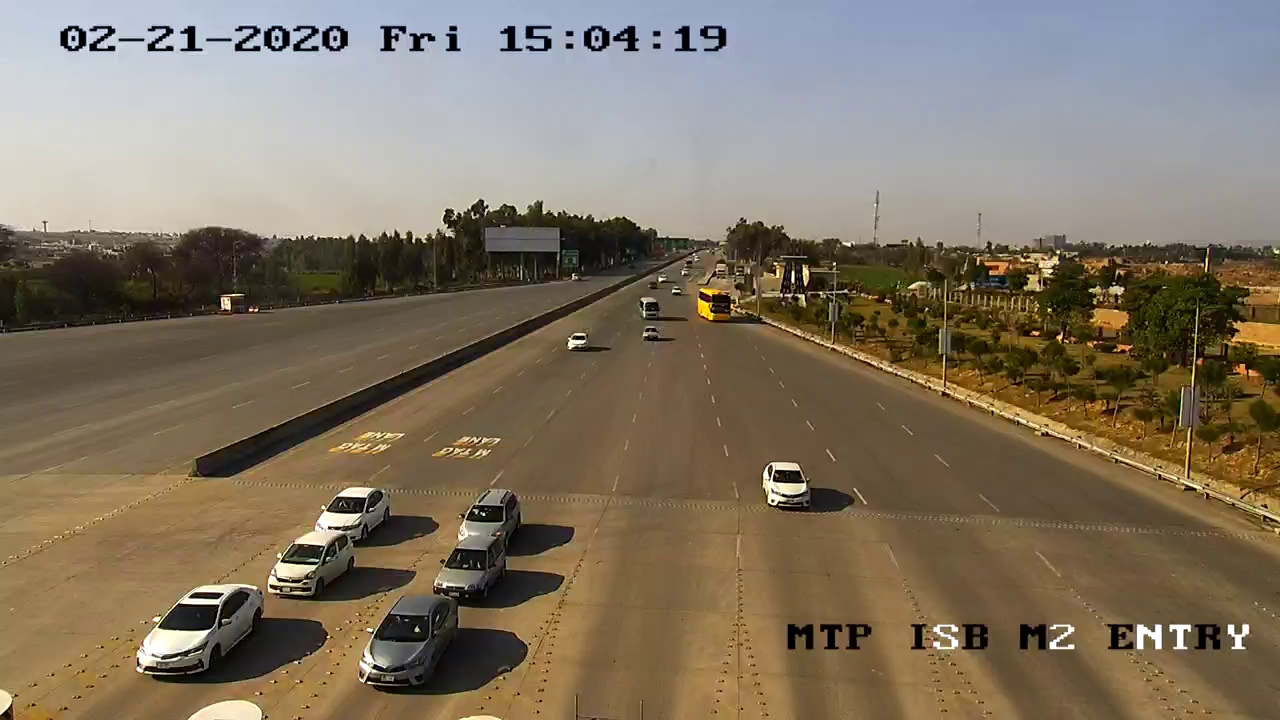f1: (132, 558, 266, 683), (346, 588, 463, 695), (263, 524, 371, 606), (420, 524, 512, 608), (754, 454, 815, 517)
